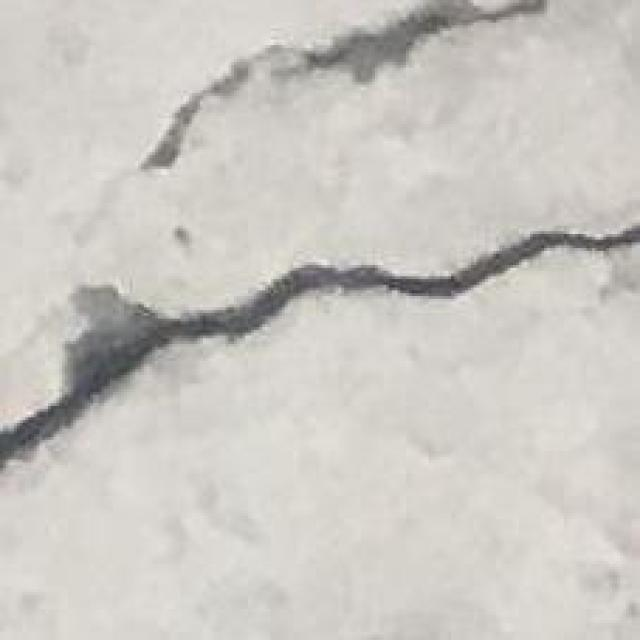diagonal crack: (0, 223, 637, 471), (144, 0, 505, 169)
